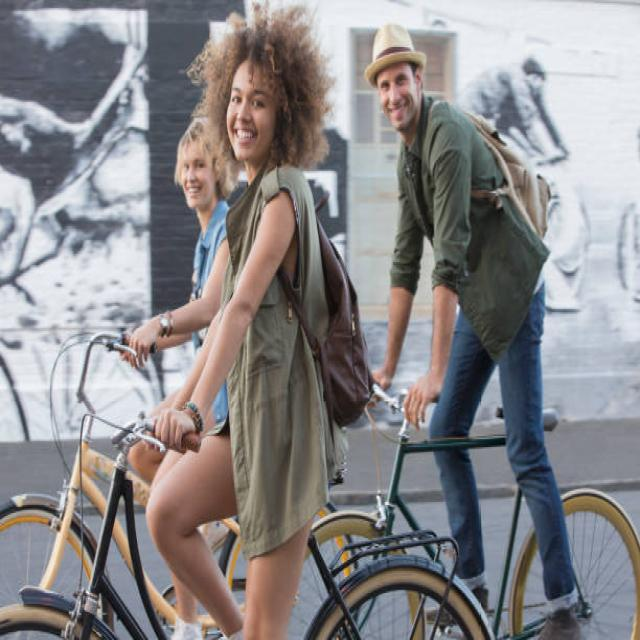bicycle: (0, 8, 490, 640), (315, 28, 640, 639)
